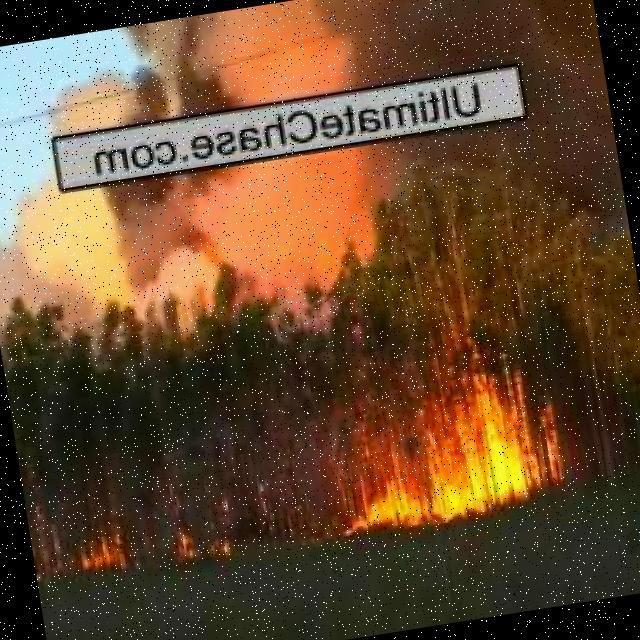Fire: (331, 374, 565, 535), (66, 525, 130, 579), (174, 519, 230, 564)
